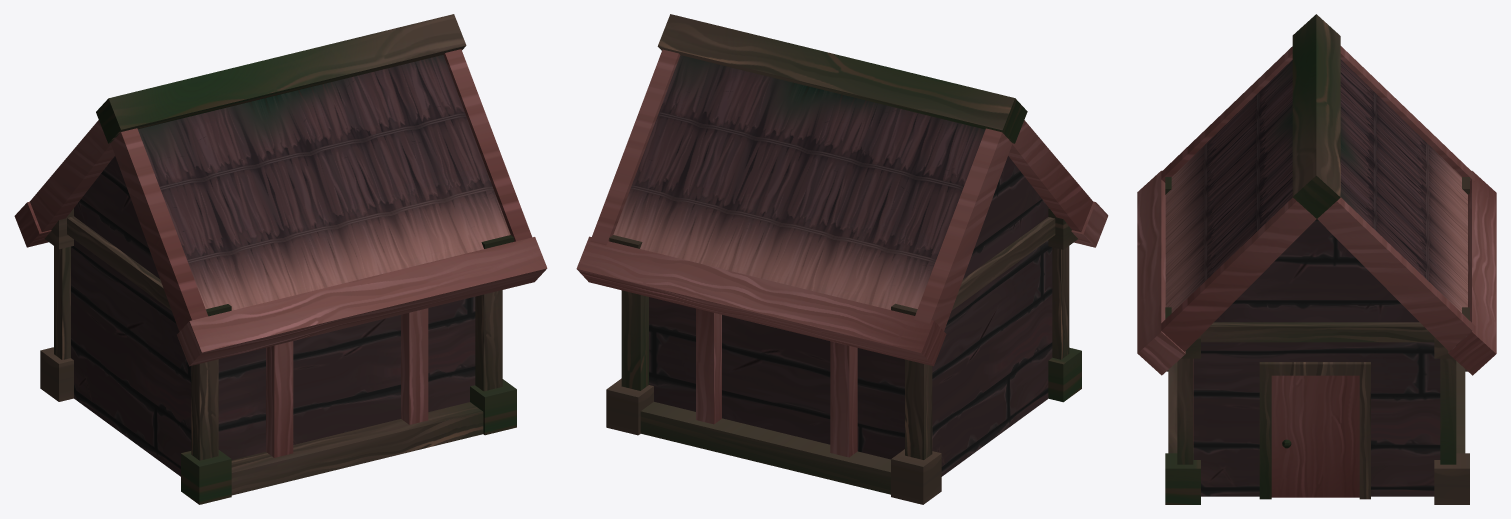
The model's file is Rumah 1.fbx.
3 views of the same model, side by side, from view 1: azimuth 30°, elevation 25°; view 2: azimuth 150°, elevation 25°; view 3: azimuth 270°, elevation 25° (orthographic). The views are drawn at different scales.
Visible parts, largest first — view 1: Plane, Plane.001, Cube.009, Plane.003, Cube.011, Cube, Cube.018, Cube.004, Cube.003, Cube.008, Cube.006, Cube.013 (+3 smaller); view 2: Plane, Plane.001, Cube.010, Plane.003, Cube.011, Cube.014, Cube.018, Cube.002, Cube.001, Cube.005, Cube.007, Cube.013 (+3 smaller); view 3: Plane, Plane.001, Plane.003, Plane.002, Cube.011, Cube.009, Cube.010, Cube.012, Cube.015, Cube.018, Cube.005, Cube.006 (+3 smaller).
Boxes of the visible parts, x1,y1,x2,y2 form: Plane: (101, 55, 510, 310); Plane.001: (71, 156, 475, 476); Cube.009: (177, 237, 547, 366); Plane.003: (30, 49, 531, 331); Cube.011: (96, 14, 466, 143); Cube: (231, 402, 483, 495); Cube.018: (40, 347, 516, 504); Cube.004: (266, 341, 293, 457); Cube.003: (401, 308, 428, 424); Cube.008: (191, 359, 218, 460); Cube.006: (475, 290, 502, 391); Cube.013: (67, 216, 171, 310); Plane: (613, 55, 1022, 309); Plane.001: (649, 157, 1052, 476); Cube.010: (576, 236, 946, 366); Plane.003: (590, 49, 1093, 330); Cube.011: (657, 14, 1027, 143); Cube.014: (640, 402, 890, 494); Cube.018: (606, 347, 1081, 504); Cube.002: (830, 341, 857, 457); Cube.001: (696, 308, 721, 424); Cube.005: (621, 290, 648, 390); Cube.007: (905, 359, 932, 459); Cube.013: (951, 217, 1055, 310); Plane: (1165, 59, 1467, 312); Plane.001: (1193, 219, 1440, 496); Plane.003: (1161, 46, 1475, 351); Plane.002: (1271, 375, 1359, 497); Cube.011: (1292, 14, 1340, 218); Cube.009: (1137, 170, 1185, 375); Cube.010: (1448, 171, 1496, 375); Cube.012: (1201, 322, 1434, 342); Cube.015: (1259, 362, 1370, 499); Cube.018: (1165, 369, 1469, 504); Cube.005: (1440, 358, 1456, 464); Cube.006: (1177, 358, 1193, 464).
Bounding box in the file's own units: 198 × 192 × 186.
